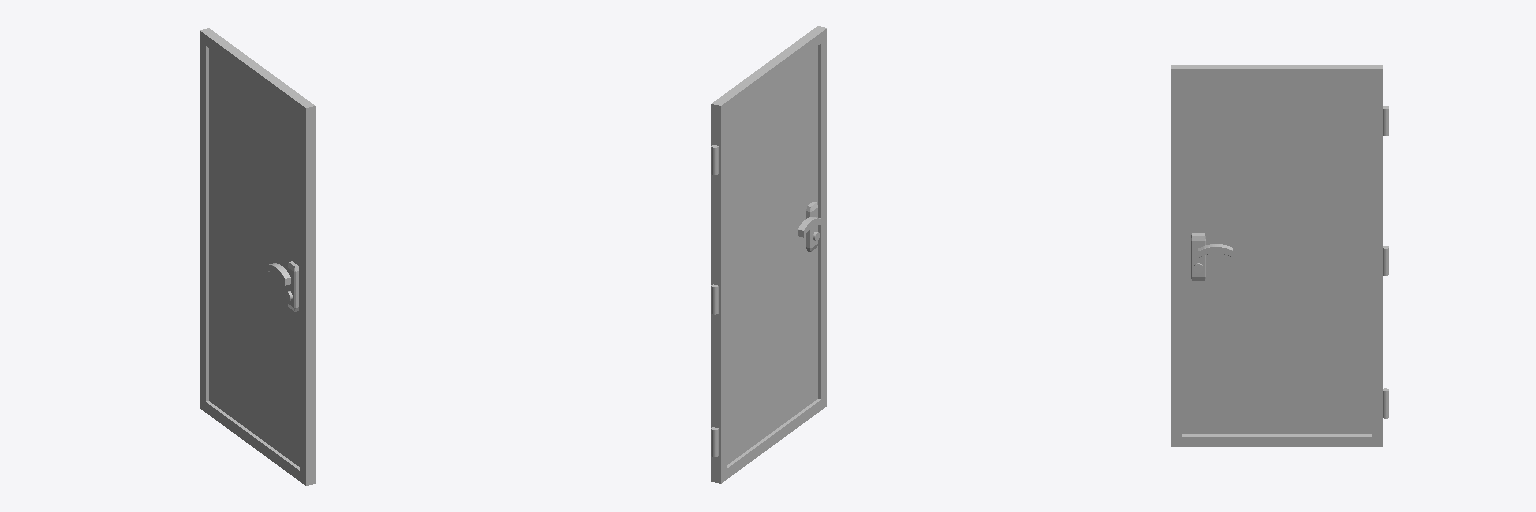
Rendered from door.obj.
3 renders of one model, left to right at view 1: azimuth 30°, elevation 25°; view 2: azimuth 150°, elevation 25°; view 3: azimuth 270°, elevation 25°, orthographic.
Parts seen in each view (by area): view 1: Cube.001; view 2: Cube.001; view 3: Cube.001.
Boxes of the visible parts, box(x1,y1,x2,y2) form: Cube.001: box(200, 28, 315, 485); Cube.001: box(711, 26, 826, 483); Cube.001: box(1171, 65, 1388, 446).
Size of the model in its own units: 0.4437 by 6.52 by 3.42.